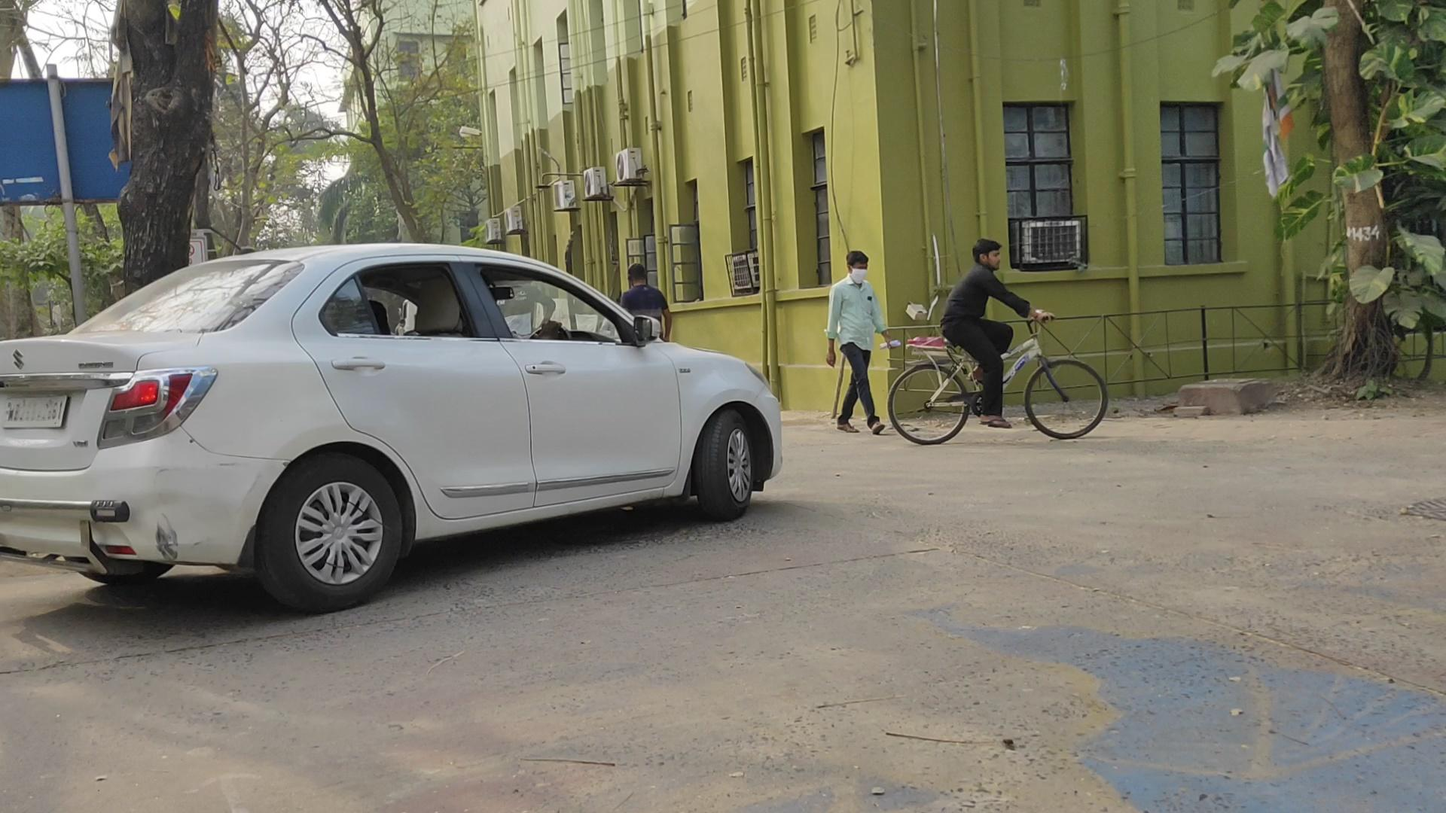bike: (886, 237, 1109, 446)
car: (1, 242, 783, 608)
